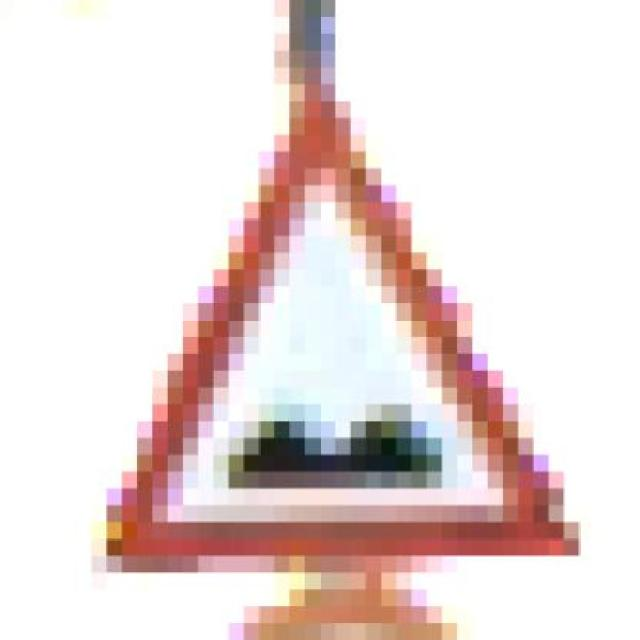Uneven Road: (92, 67, 579, 573)
